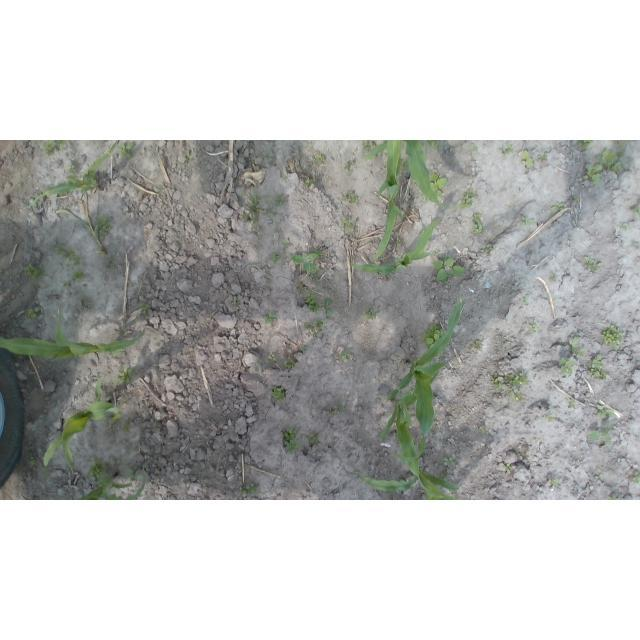Maize: (385, 301, 462, 460), (378, 369, 446, 500), (44, 377, 123, 477), (1, 310, 146, 361), (23, 141, 119, 210), (349, 217, 441, 280), (363, 141, 442, 207), (53, 199, 107, 256), (376, 140, 401, 261), (361, 468, 460, 494), (81, 471, 145, 500)
Weeds: (491, 372, 530, 402), (431, 258, 465, 282), (243, 192, 264, 224), (291, 253, 319, 274), (588, 353, 609, 380), (596, 150, 618, 173), (601, 325, 624, 347), (589, 423, 613, 442), (424, 323, 442, 347), (584, 163, 601, 184), (432, 173, 447, 195), (583, 256, 601, 273), (115, 368, 133, 385), (520, 151, 535, 170), (559, 358, 574, 377), (87, 460, 103, 477), (42, 141, 58, 158), (615, 141, 633, 156), (120, 142, 136, 158), (307, 322, 324, 337), (25, 265, 44, 277), (65, 250, 80, 264), (567, 334, 578, 353), (342, 190, 358, 203), (306, 294, 319, 310), (325, 296, 335, 316), (596, 404, 612, 416), (520, 214, 534, 227), (271, 389, 286, 401), (265, 311, 277, 325), (503, 141, 514, 156), (109, 415, 120, 430), (284, 440, 297, 452), (460, 196, 472, 209), (443, 457, 457, 468), (343, 220, 354, 234), (552, 202, 565, 213), (472, 339, 483, 352), (27, 308, 40, 319), (284, 356, 295, 369), (234, 487, 247, 497), (629, 470, 639, 483), (425, 141, 439, 150), (247, 484, 258, 495), (314, 154, 325, 165), (284, 428, 296, 438), (277, 196, 287, 208), (309, 432, 318, 445), (362, 142, 375, 151), (632, 203, 640, 217), (538, 152, 548, 163), (101, 226, 111, 237), (72, 271, 82, 282), (124, 420, 133, 432), (57, 242, 66, 254), (578, 141, 593, 148), (523, 294, 530, 307), (340, 351, 349, 361), (482, 244, 492, 253), (578, 347, 587, 357), (504, 463, 513, 473), (182, 151, 191, 161), (473, 213, 482, 223), (138, 302, 146, 313), (96, 216, 108, 223), (366, 307, 374, 317), (268, 354, 276, 364), (471, 143, 478, 154), (569, 195, 581, 201), (531, 324, 540, 332), (568, 398, 576, 407), (126, 470, 134, 479), (305, 179, 313, 188), (31, 456, 38, 466), (273, 252, 280, 262), (267, 203, 274, 213), (263, 151, 274, 157), (620, 222, 628, 230), (474, 226, 482, 234), (397, 238, 404, 247), (345, 161, 351, 171), (550, 275, 557, 283), (310, 273, 318, 280), (336, 404, 344, 411), (68, 165, 76, 172), (434, 249, 441, 256), (479, 429, 486, 436), (548, 415, 555, 422), (282, 243, 290, 249), (607, 496, 617, 500), (551, 479, 556, 487), (464, 190, 473, 194), (283, 175, 290, 180), (233, 302, 240, 307), (63, 282, 71, 286), (301, 347, 307, 352), (326, 408, 332, 412)
